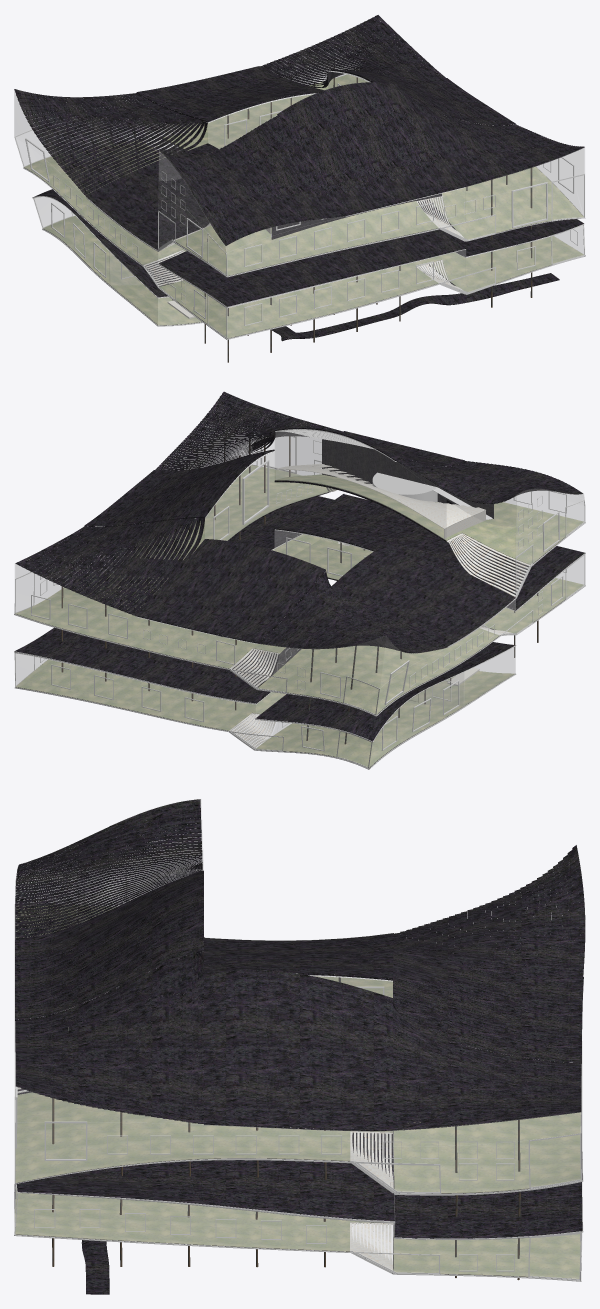
3 renders of one model, top to bottom at view 1: azimuth 30°, elevation 25°; view 2: azimuth 150°, elevation 25°; view 3: azimuth 270°, elevation 25°, orthographic. The views are drawn at different scales.
Parts seen in each view (by area): view 1: CATI DIS, CAMDIS, YESIL MERMER ZEMIN, BEYAZOUTLINE, CAM BUGU, MERMERIMSI, KOLON, GRID CATI; view 2: CATI DIS, CAMDIS, YESIL MERMER ZEMIN, BEYAZOUTLINE, CAM BUGU, MERMERIMSI, GRID CATI, KOLON; view 3: CATI DIS, YESIL MERMER ZEMIN, CAMDIS, BEYAZOUTLINE, CAM BUGU, MERMERIMSI, KOLON, GRID CATI.
Part boxes in pixels (x1,y1,x2,y2): CATI DIS: (14,15,585,341); CAMDIS: (14,71,584,338); YESIL MERMER ZEMIN: (24,74,583,338); BEYAZOUTLINE: (14,57,585,339); CAM BUGU: (16,131,583,336); MERMERIMSI: (140,123,463,318); KOLON: (67,62,532,362); GRID CATI: (33,70,550,308); CATI DIS: (15,391,584,768); CAMDIS: (14,429,584,768); YESIL MERMER ZEMIN: (15,465,583,767); BEYAZOUTLINE: (14,422,585,769); CAM BUGU: (16,432,584,766); MERMERIMSI: (87,463,529,747); GRID CATI: (15,429,515,729); KOLON: (61,430,538,744); CATI DIS: (14,799,585,1294); YESIL MERMER ZEMIN: (15,904,580,1278); CAMDIS: (15,798,585,1276); BEYAZOUTLINE: (14,837,585,1281); CAM BUGU: (15,882,580,1278); MERMERIMSI: (17,1087,393,1269); KOLON: (52,923,520,1280); GRID CATI: (18,968,572,1239).
Bounding box in the file's own units: 49.12 × 26.47 × 48.42.
Materials: 9 (6 with a texture image).
